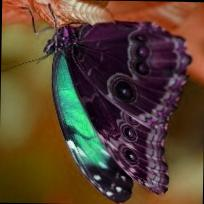butterfly: (45, 21, 192, 202)
